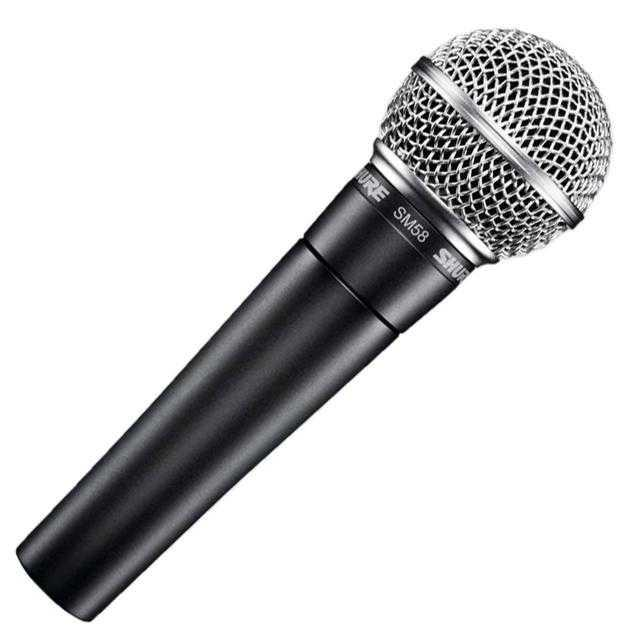microphone: (27, 26, 606, 621)
